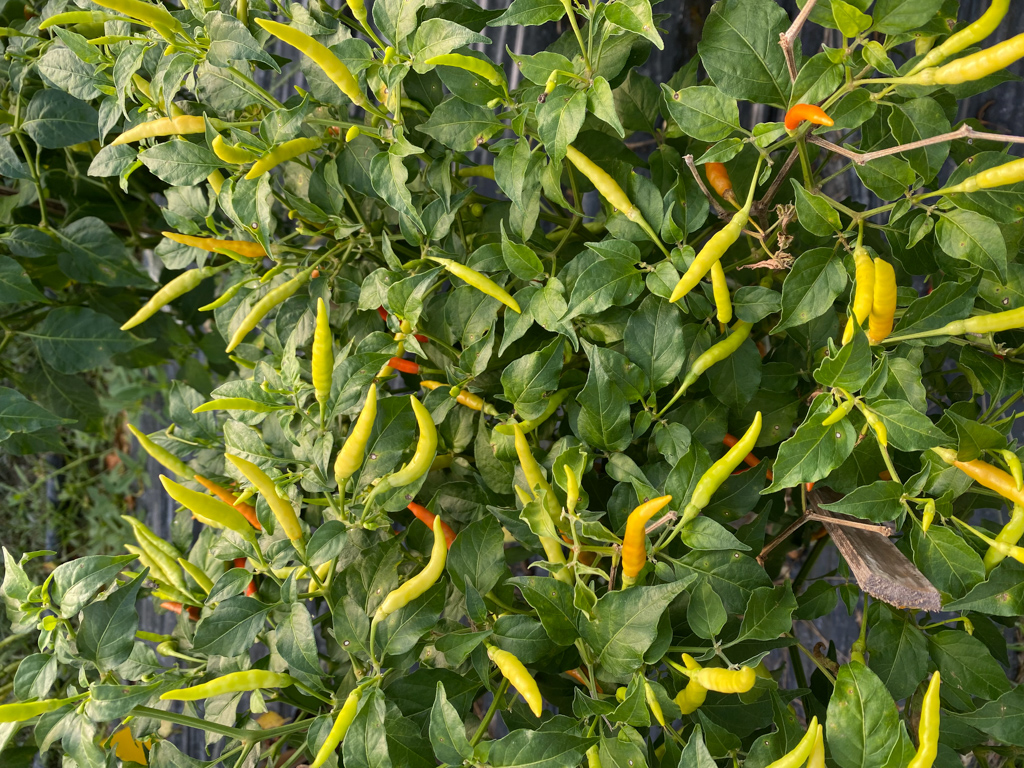frog-eye leafspot: (472, 129, 485, 148), (340, 636, 353, 650), (369, 451, 382, 462), (762, 739, 771, 746)
